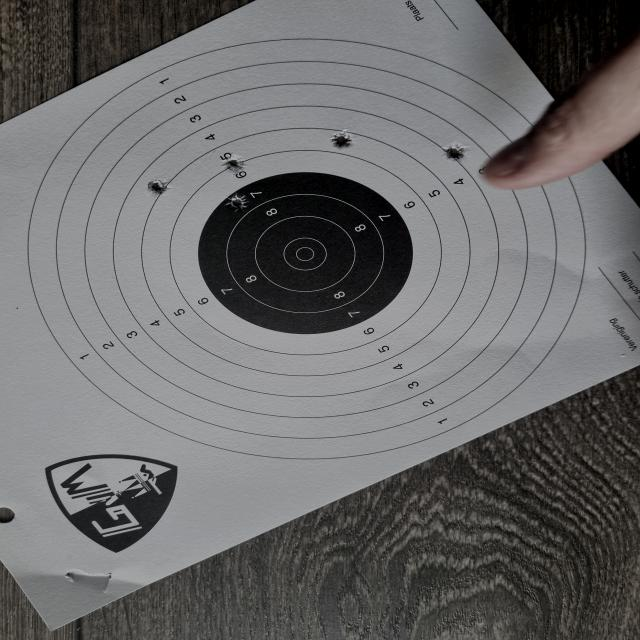4: (440, 142, 467, 162)
5: (329, 130, 356, 153), (146, 178, 168, 196)
6: (222, 154, 244, 174)
7: (224, 193, 247, 210)
Target: (22, 35, 586, 461)
black_contour: (200, 173, 413, 333)
